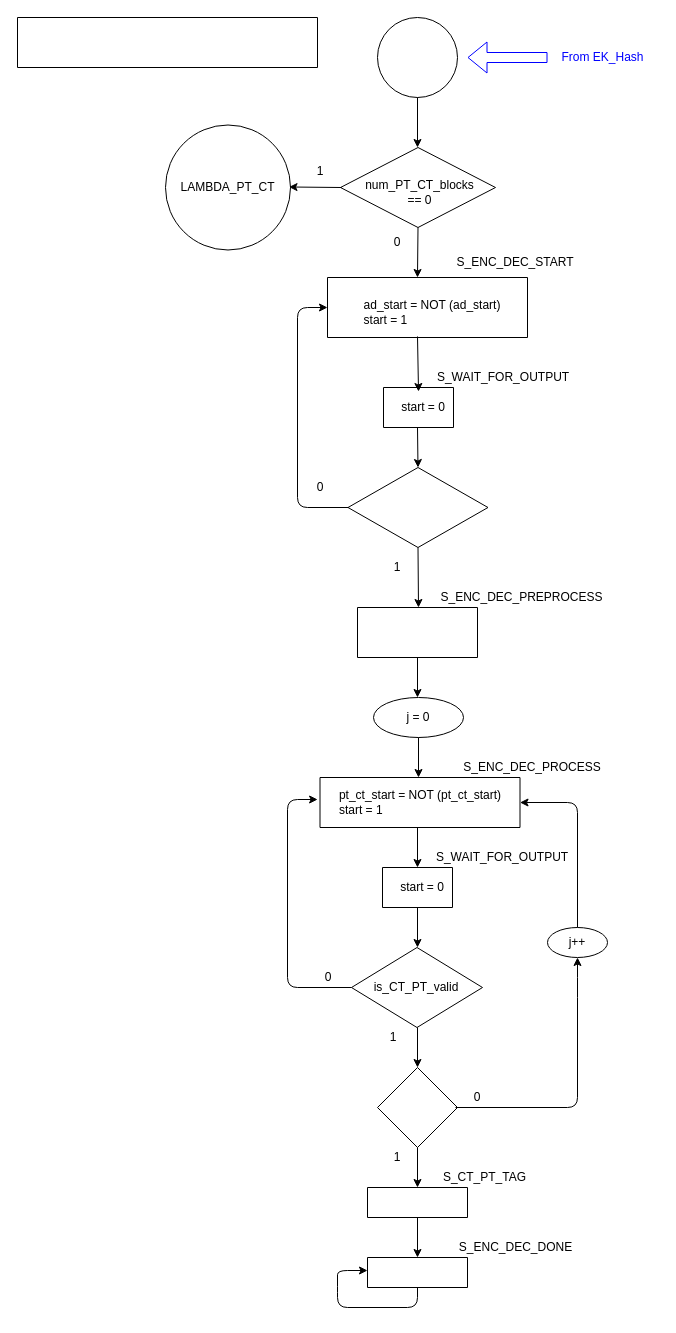
This 676x1333 diagram has some shape labels left out. The shapes that lost their labels are listed below. From the top down, each one's centre as x and y in pixels, then its label:
At pixel 167 42: "Notations: p - Number PT or CT blocks of length 64 bits each".
At pixel 417 57: "IV_valid".
At pixel 417 507: "is_Enc_IV_valid".
At pixel 417 632: "pt_ct_start = 1 ad_start = 0".
At pixel 417 1107: "j == p -1".
